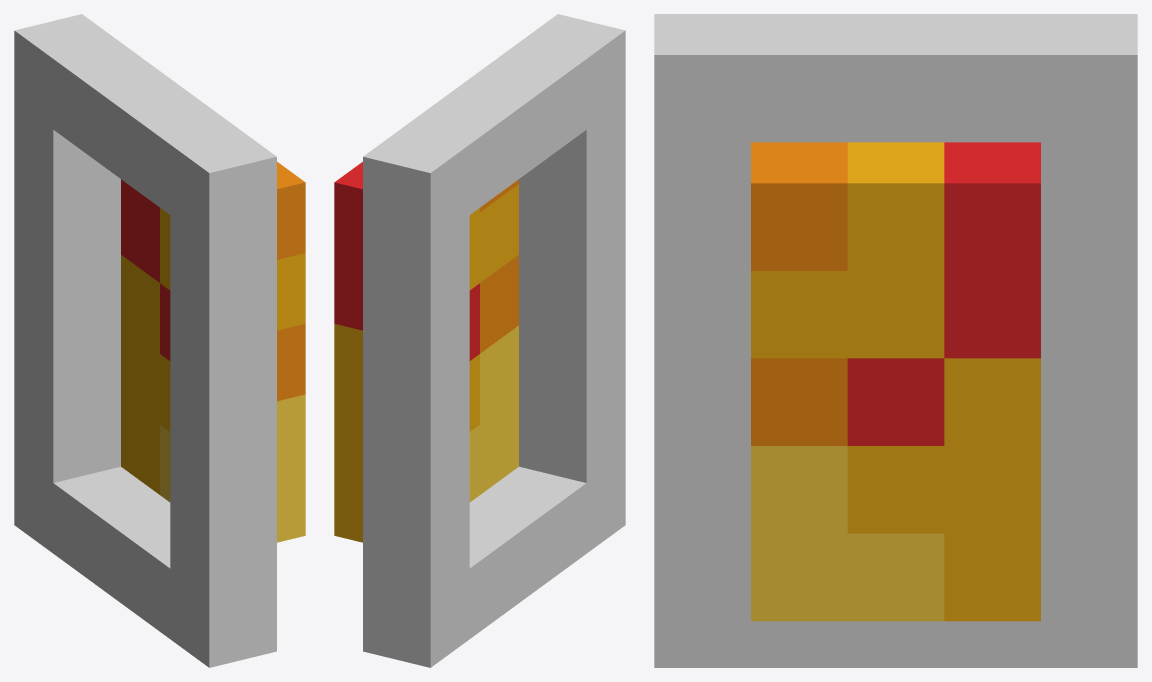
The model's file is Picture_in_frame_2.obj.
3 views of the same model, side by side, from view 1: azimuth 30°, elevation 25°; view 2: azimuth 150°, elevation 25°; view 3: azimuth 270°, elevation 25° (orthographic). The views are drawn at different scales.
Size of the model in its own units: 0.2 by 0.7 by 0.5.
